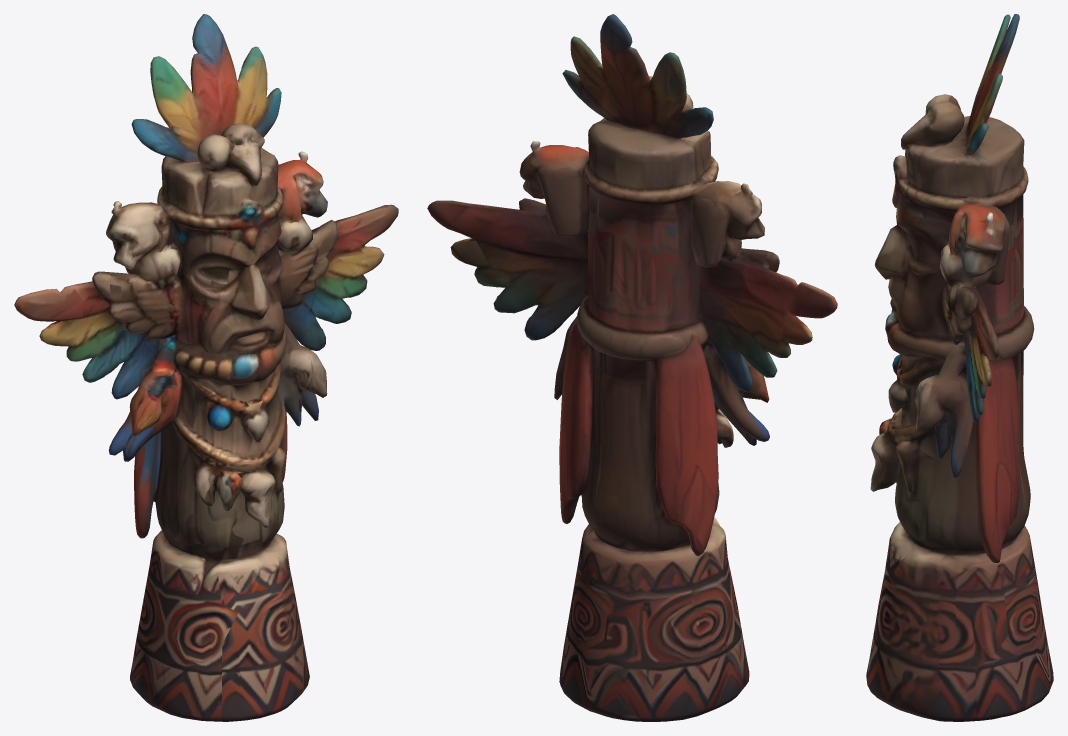
File: p3_01_totem.glb
3 views of the same model, side by side, from view 1: azimuth 30°, elevation 25°; view 2: azimuth 150°, elevation 25°; view 3: azimuth 270°, elevation 25° (orthographic). The views are drawn at different scales.
Parts seen in each view (by area): view 1: p3_01_totem; view 2: p3_01_totem; view 3: p3_01_totem.
Part boxes in pixels (<box>): p3_01_totem: <box>14,14,398,721</box>; p3_01_totem: <box>427,14,837,721</box>; p3_01_totem: <box>866,14,1053,721</box>.
Size of the model in its own units: 1.04 by 1.67 by 0.4204.
Materials: 1 (1 with a texture image).
